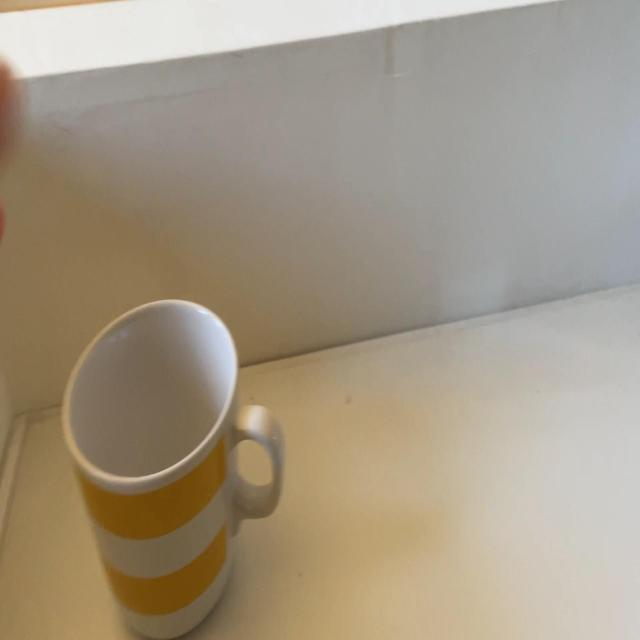cup: (40, 300, 292, 640)
